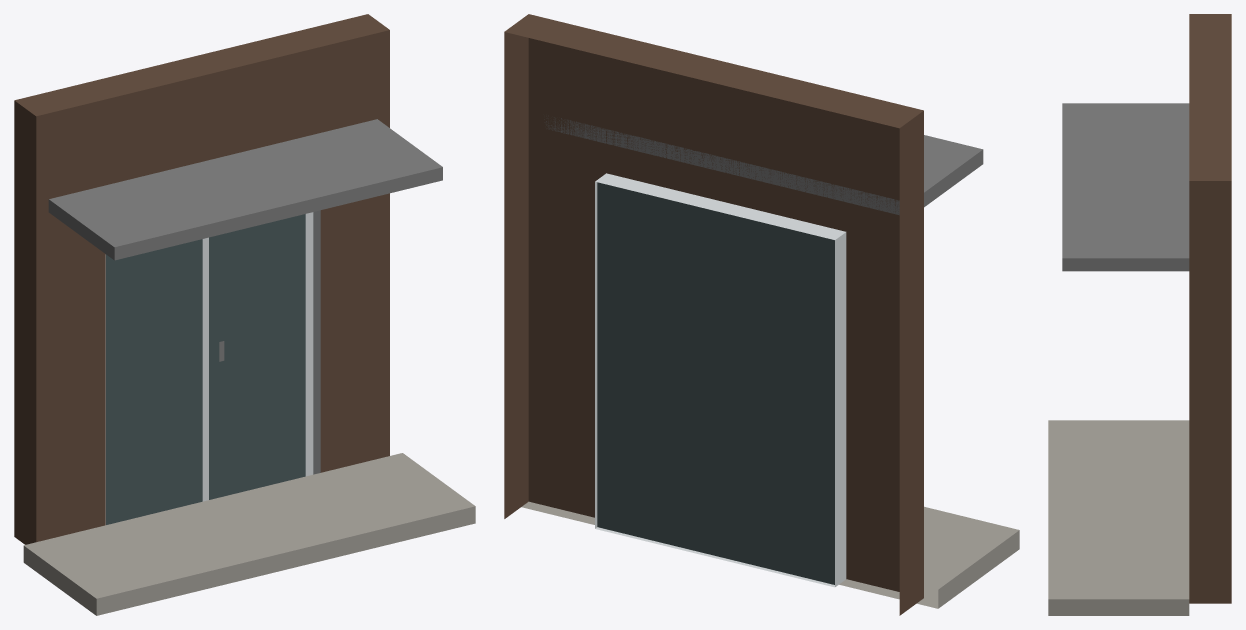
Rendered from entrance.fbx.
3 renders of one model, left to right at view 1: azimuth 30°, elevation 25°; view 2: azimuth 150°, elevation 25°; view 3: azimuth 270°, elevation 25°, orthographic. The views are drawn at different scales.
Visible parts, largest first — view 1: a2009/200/entrance; view 2: a2009/200/entrance; view 3: a2009/200/entrance.
Part boxes in pixels (bbox=[...]): a2009/200/entrance: bbox=[14, 14, 475, 615]; a2009/200/entrance: bbox=[504, 14, 1019, 615]; a2009/200/entrance: bbox=[1048, 14, 1231, 615].
Bounding box in the file's own units: 3 × 3.35 × 1.3.
